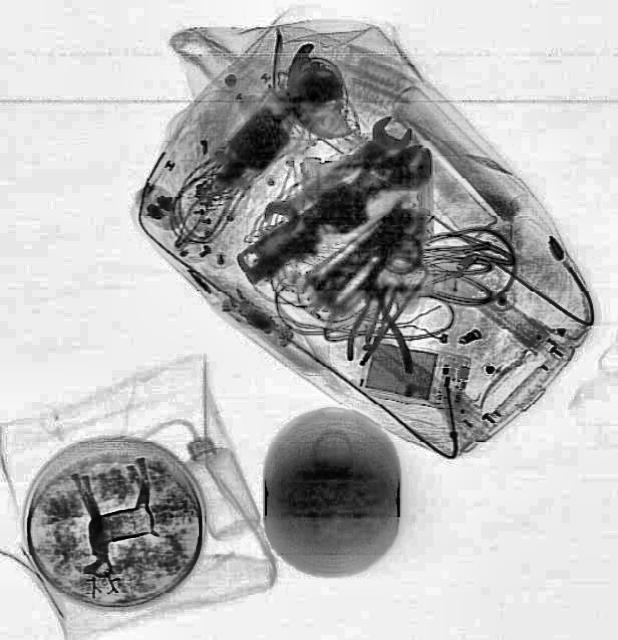Pliers: (344, 276, 416, 370)
Wrench: (257, 106, 417, 238)
